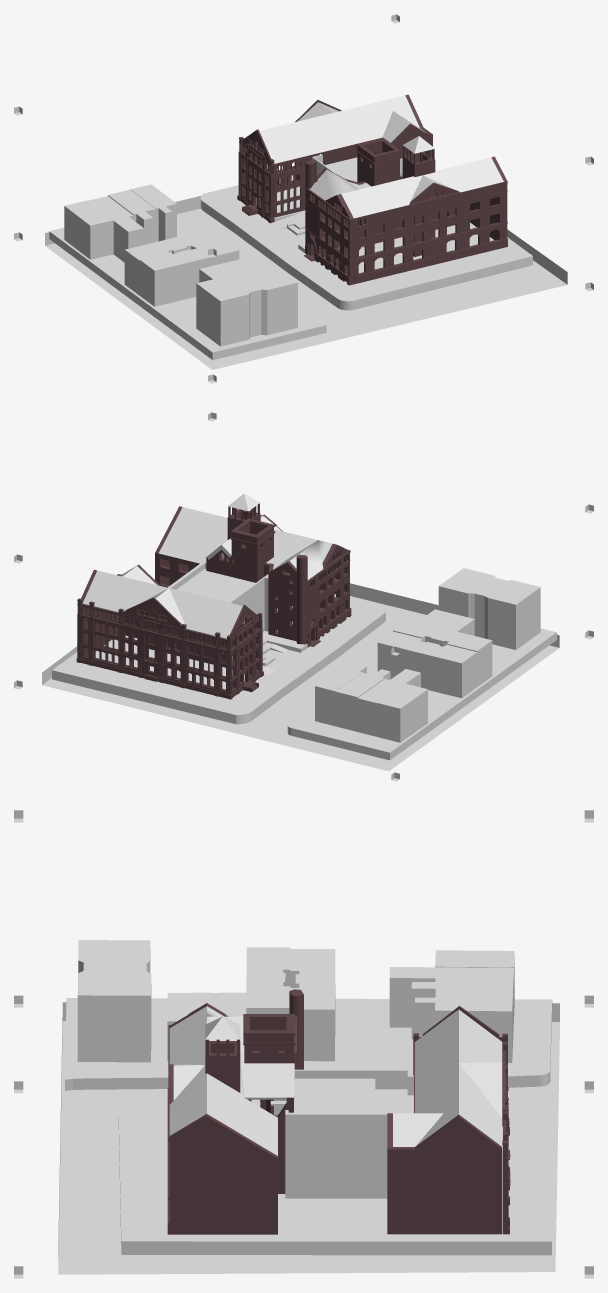
The model's file is Higgins.gltf.
3 renders of one model, top to bottom at view 1: azimuth 30°, elevation 25°; view 2: azimuth 150°, elevation 25°; view 3: azimuth 270°, elevation 25°, orthographic. The views are drawn at different scales.
Parts seen in each view (by area): view 1: Plane, sidewalk_filter.002, 201208_MG_Stone.008, Areas:building.145, 201208_MG_Roof.009, sidewalk_filter.001, 201208_MG_Roof.012, Areas:building.141, 201208_MG_Stone.030, 201208_MG_Stone.010, Areas:building.114, 201208_MG_Stone.029 (+11 smaller); view 2: Plane, sidewalk_filter.002, 201208_MG_Stone.009, Areas:building.145, sidewalk_filter.001, 201208_MG_Stone.029, 201208_MG_Roof.009, 201208_MG_Roof.012, Areas:building.140, 201208_MG_Stone.030, 201208_MG_Stone.010, Areas:building.114 (+13 smaller); view 3: Plane, sidewalk_filter.002, sidewalk_filter.001, 201208_MG_Stone.025, 201208_MG_Stone.027, 201208_MG_Roof.009, Areas:building.145, 201208_MG_GlassOpaque.009, 201208_MG_Roof.012, Areas:building.140, 201208_MG_Roof.008, 201208_MG_Stone.029 (+15 smaller).
Part boxes in pixels (x1=…): Plane: x1=45, y1=196, x2=567, y2=369; sidewalk_filter.002: x1=200, y1=175, x2=532, y2=310; 201208_MG_Stone.008: x1=348, y1=181, x2=507, y2=284; Areas:building.145: x1=196, y1=264, x2=297, y2=346; 201208_MG_Roof.009: x1=259, y1=95, x2=425, y2=163; sidewalk_filter.001: x1=49, y1=220, x2=326, y2=359; 201208_MG_Roof.012: x1=309, y1=157, x2=503, y2=218; Areas:building.141: x1=139, y1=239, x2=239, y2=306; 201208_MG_Stone.030: x1=304, y1=188, x2=354, y2=285; 201208_MG_Stone.010: x1=237, y1=129, x2=274, y2=223; Areas:building.114: x1=64, y1=200, x2=113, y2=259; 201208_MG_Stone.029: x1=315, y1=137, x2=402, y2=249; Plane: x1=42, y1=553, x2=559, y2=771; sidewalk_filter.002: x1=52, y1=595, x2=385, y2=724; 201208_MG_Stone.009: x1=76, y1=597, x2=227, y2=698; Areas:building.145: x1=438, y1=568, x2=540, y2=649; sidewalk_filter.001: x1=287, y1=628, x2=556, y2=760; 201208_MG_Stone.029: x1=206, y1=518, x2=296, y2=641; 201208_MG_Roof.009: x1=82, y1=566, x2=242, y2=638; 201208_MG_Roof.012: x1=158, y1=507, x2=332, y2=579; Areas:building.140: x1=377, y1=631, x2=477, y2=698; 201208_MG_Stone.030: x1=306, y1=543, x2=351, y2=647; 201208_MG_Stone.010: x1=226, y1=605, x2=263, y2=699; Areas:building.114: x1=377, y1=683, x2=427, y2=742; Plane: x1=58, y1=1002, x2=559, y2=1274; sidewalk_filter.002: x1=118, y1=1104, x2=551, y2=1255; sidewalk_filter.001: x1=65, y1=998, x2=552, y2=1090; 201208_MG_Stone.025: x1=387, y1=1113, x2=502, y2=1234; 201208_MG_Stone.027: x1=167, y1=1114, x2=277, y2=1234; 201208_MG_Roof.009: x1=393, y1=1009, x2=502, y2=1146; Areas:building.145: x1=77, y1=940, x2=151, y2=1062; 201208_MG_GlassOpaque.009: x1=285, y1=1110, x2=413, y2=1198; 201208_MG_Roof.012: x1=169, y1=1006, x2=277, y2=1155; Areas:building.140: x1=290, y1=949, x2=335, y2=1061; 201208_MG_Roof.008: x1=294, y1=1078, x2=413, y2=1112; 201208_MG_Stone.029: x1=243, y1=1014, x2=296, y2=1193.
Bounding box in the file's own units: 142 × 47.55 × 126.
